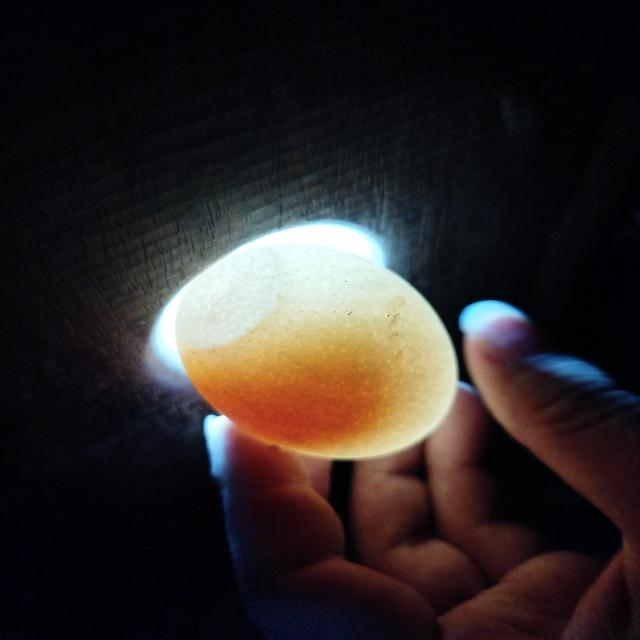Camara de Ar: (174, 249, 278, 348)
